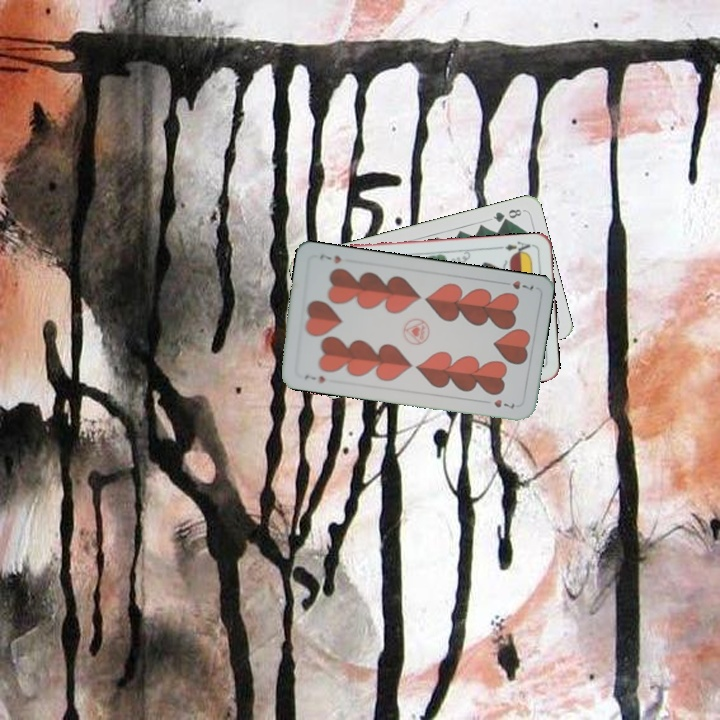EA: (495, 237, 536, 257)
G8: (489, 205, 524, 225)
H7: (497, 276, 536, 293), (301, 371, 328, 386)
